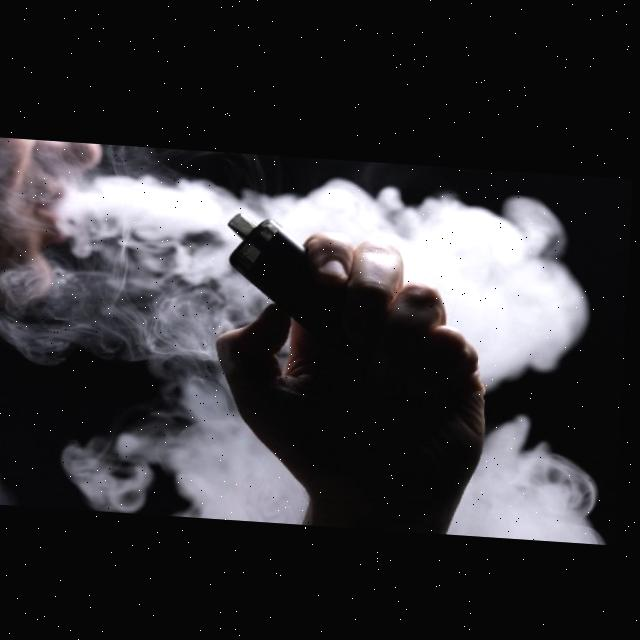vape: (226, 208, 312, 321)
